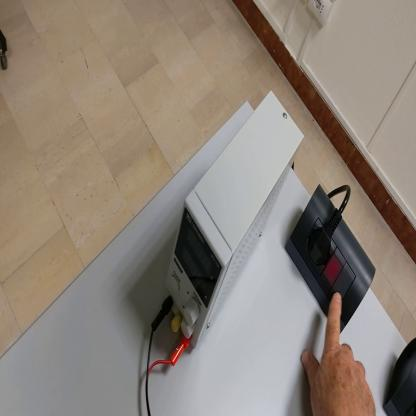hand: (302, 295, 375, 416)
power supply: (164, 95, 306, 352)
socket: (286, 185, 377, 333), (384, 339, 416, 416)
